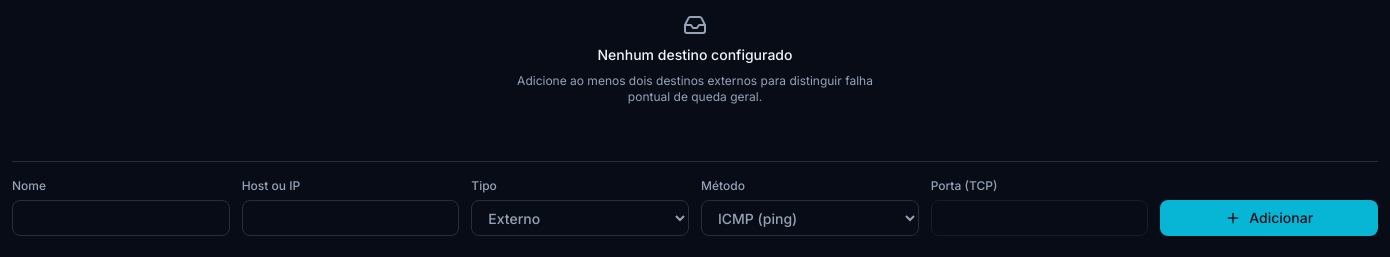
TargetsPanel › tipo DNS força o método DNS e desabilita a porta
Select "DNS" in the dropdown labelled "Tipo". click: (580, 218)
box: 471,200 -> 689,236
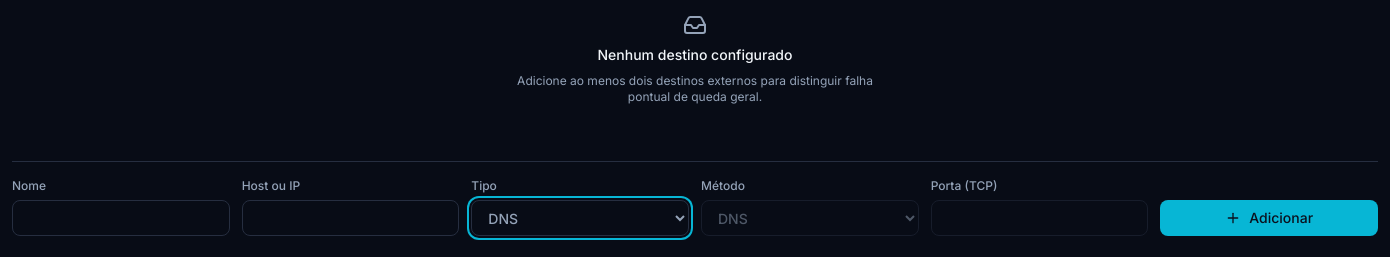
Result: the dropdown labelled "Método" is disabled at 701,200 -> 919,236
